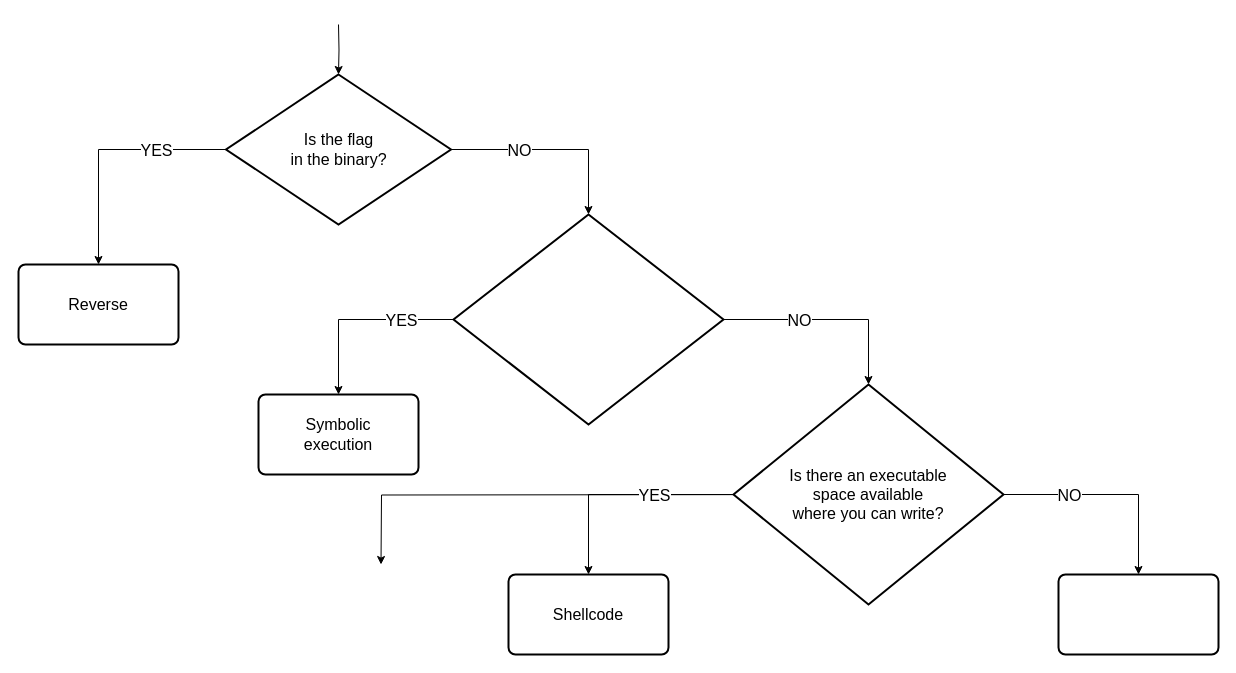
Some shapes in this 1236 by 673 pixel diagram are drawn without their labels. Here are the shapes that lost their labels. From the top down, the centre of each, then its label:
At point 588,319: "Is there some logic that you have to guess?".
At point 1138,614: "ROP".
